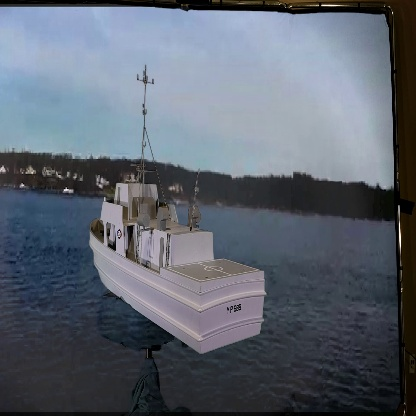YP689: (86, 61, 272, 356)
